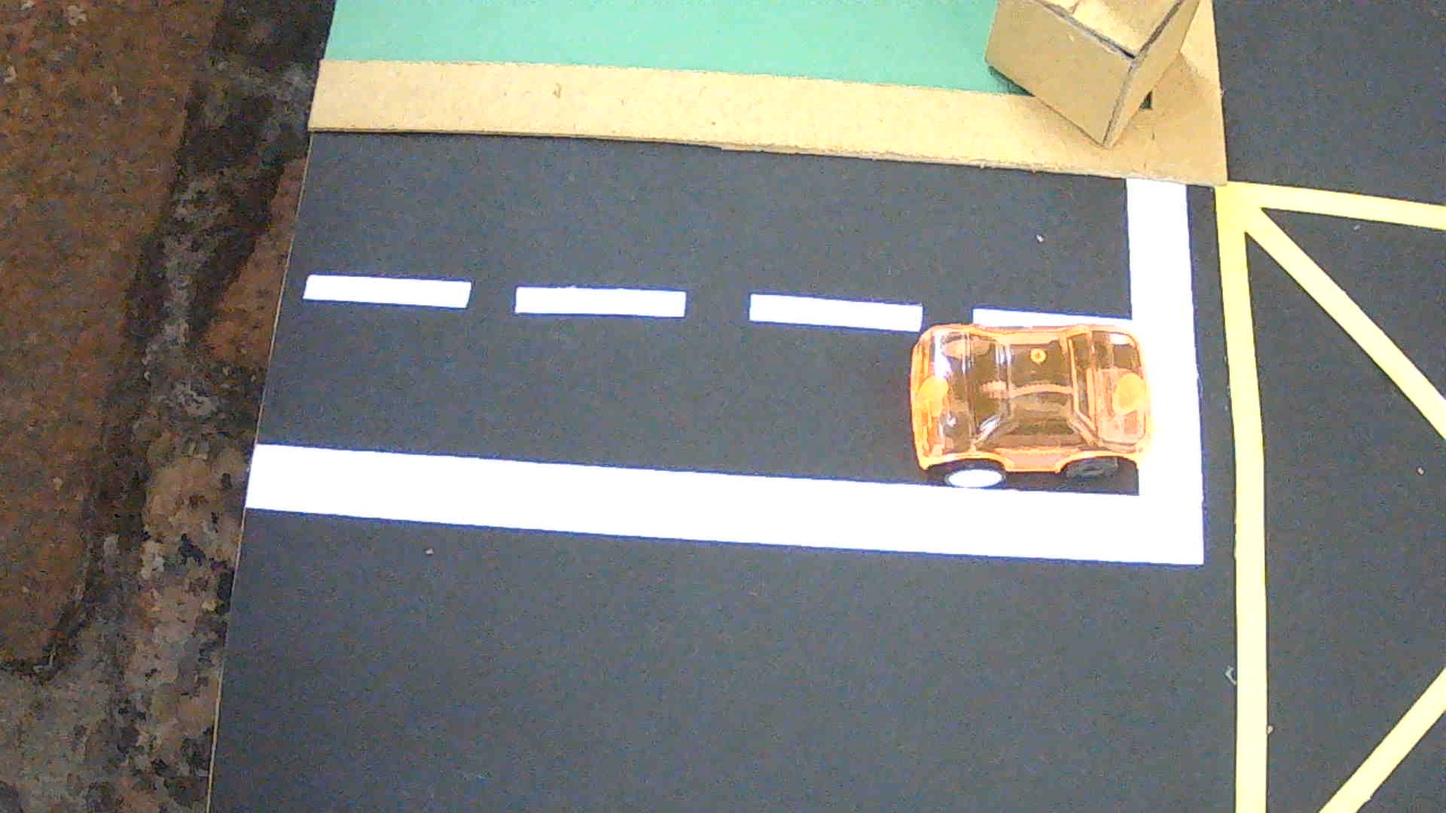Mobil orange: (908, 323, 1153, 487)
